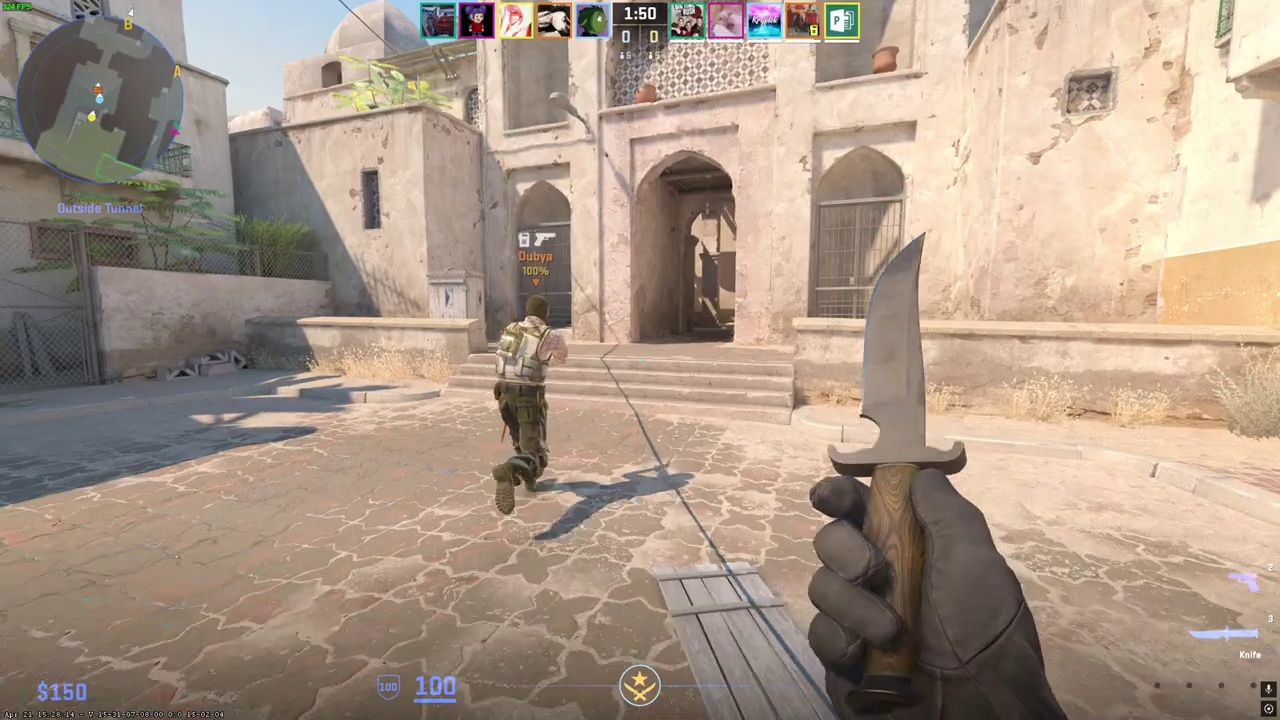Terrorist: (492, 294, 569, 514)
